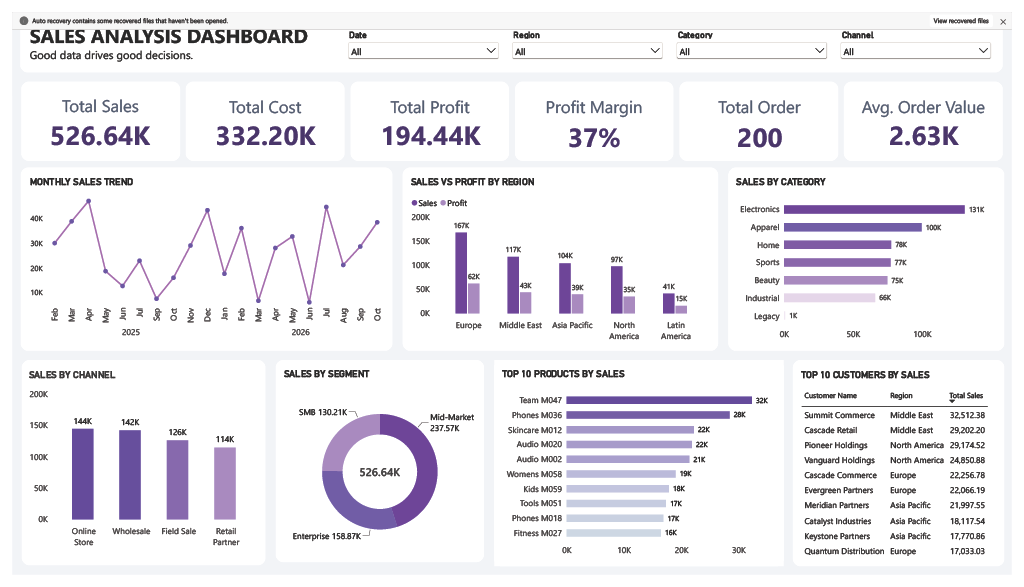

The page's visual inventory and layout, read from the dashboard file:
{"tool":"powerbi","page":{"name":"Sales Overview","canvas":[1920,1080],"ordinal":0},"visuals":[{"type":"shape","box":[1598,132.9,304.7,152],"z":0},{"type":"shape","box":[1281.9,132.9,304.7,152],"z":1000},{"type":"shape","box":[965.7,132.9,304.7,152],"z":2000},{"type":"shape","box":[649.6,132.9,304.7,152],"z":3000},{"type":"shape","box":[333.5,132.9,304.7,152],"z":4000},{"type":"shape","box":[17.3,132.9,304.7,152],"z":5000},{"type":"shape","box":[1376,298,530,352],"z":6000},{"type":"shape","box":[18,668,468,394],"z":7000},{"type":"shape","box":[506,668,400,388],"z":8000},{"type":"shape","box":[16,298,714,352],"z":9000},{"type":"shape","box":[926,668,556,396],"z":10000},{"type":"shape","box":[1500,668,406,396],"z":11000},{"type":"lineChart","title":"MONTHLY SALES TREND","fields":{"Category":["dim_date.year","dim_date.month_name"],"Y":["_measures.total_sales"]},"box":[18,298,712,352],"z":12000},{"type":"shape","box":[750,298,606,352],"z":13000},{"type":"barChart","title":"SALES BY CATEGORY","fields":{"Category":["dim_product.category"],"Y":["_measures.total_sales"]},"box":[1376,298,526,352],"z":14000},{"type":"clusteredBarChart","title":"TOP 10 PRODUCTS BY SALES","fields":{"Y":["_measures.total_sales"],"Category":["dim_product.product_name"]},"box":[926,668,556,396],"z":15000},{"type":"textbox","box":[15,156.2,307.5,63.8],"z":16000},{"type":"cardVisual","fields":{"Data":["_measures.total_sales"]},"box":[15,183.8,307.5,97.5],"z":17000},{"type":"tableEx","title":"TOP 10 CUSTOMERS BY SALES","fields":{"Values":["dim_customer.customer_name","dim_customer.region","_measures.total_sales"]},"box":[1500,670,406,396],"z":18000},{"type":"donutChart","title":"SALES BY SEGMENT","fields":{"Y":["_measures.total_sales"],"Category":["dim_customer.segment"]},"box":[506,668,400,394],"z":19000},{"type":"clusteredColumnChart","title":"SALES VS PROFIT BY REGION","fields":{"Category":["dim_customer.region"],"Y":["_measures.total_sales","_measures.total_profit"]},"box":[750,298,606,352],"z":20000},{"type":"textbox","box":[332.5,157.5,305,65],"z":21000},{"type":"cardVisual","fields":{"Data":["_measures.total_cost"]},"box":[332.5,185,307.5,97.5],"z":22000},{"type":"textbox","box":[650,157.5,305,65],"z":23000},{"type":"cardVisual","fields":{"Data":["_measures.total_profit"]},"box":[650,185,307.5,97.5],"z":24000},{"type":"cardVisual","fields":{"Data":["_measures.profit_margin %"]},"box":[965,187.5,307.5,97.5],"z":25000},{"type":"textbox","box":[965,157.5,305,65],"z":26000},{"type":"textbox","box":[1282.5,157.5,305,65],"z":27000},{"type":"cardVisual","fields":{"Data":["_measures.total_orders"]},"box":[1282.5,187.5,307.5,97.5],"z":28000},{"type":"textbox","box":[1597.5,157.5,305,65],"z":29000},{"type":"cardVisual","fields":{"Data":["_measures.avg_order_value"]},"box":[1597.5,185,307.5,97.5],"z":30000},{"type":"shape","box":[15,17.5,1887.5,97.5],"z":31000},{"type":"slicer","fields":{"Values":["dim_orders_flag.channel"]},"box":[1586.3,30.7,300,70],"z":32000},{"type":"columnChart","title":"SALES BY CHANNEL","fields":{"Y":["_measures.total_sales"],"Category":["dim_orders_flag.channel"]},"box":[16,670,470,376],"z":33000},{"type":"slicer","fields":{"Values":["dim_product.category"]},"box":[1270.8,30.7,300,70],"z":34000},{"type":"slicer","fields":{"Values":["dim_date.year","dim_date.month_name"]},"box":[640,30.7,300,70],"z":35000},{"type":"slicer","fields":{"Values":["dim_customer.region"]},"box":[955.4,30.7,300,70],"z":36000},{"type":"textbox","box":[32.5,17.5,547.5,97.5],"z":37000}]}

Visuals, with their boxes on the page's 1920x1080 design canvas (x1, y1, x2, y2). These are canvas units, not pixel positions in the 1024x587 screenshot, which may show the page scaled, cropped or inside an application window:
shape: 1598, 133, 1903, 285
shape: 1282, 133, 1587, 285
shape: 966, 133, 1270, 285
shape: 650, 133, 954, 285
shape: 334, 133, 638, 285
shape: 17, 133, 322, 285
shape: 1376, 298, 1906, 650
shape: 18, 668, 486, 1062
shape: 506, 668, 906, 1056
shape: 16, 298, 730, 650
shape: 926, 668, 1482, 1064
shape: 1500, 668, 1906, 1064
"MONTHLY SALES TREND" lineChart: 18, 298, 730, 650
shape: 750, 298, 1356, 650
"SALES BY CATEGORY" barChart: 1376, 298, 1902, 650
"TOP 10 PRODUCTS BY SALES" clusteredBarChart: 926, 668, 1482, 1064
textbox: 15, 156, 322, 220
cardVisual - _measures.total_sales: 15, 184, 322, 281
"TOP 10 CUSTOMERS BY SALES" tableEx: 1500, 670, 1906, 1066
"SALES BY SEGMENT" donutChart: 506, 668, 906, 1062
"SALES VS PROFIT BY REGION" clusteredColumnChart: 750, 298, 1356, 650
textbox: 332, 158, 638, 222
cardVisual - _measures.total_cost: 332, 185, 640, 282
textbox: 650, 158, 955, 222
cardVisual - _measures.total_profit: 650, 185, 958, 282
cardVisual - _measures.profit_margin %: 965, 188, 1272, 285
textbox: 965, 158, 1270, 222
textbox: 1282, 158, 1588, 222
cardVisual - _measures.total_orders: 1282, 188, 1590, 285
textbox: 1598, 158, 1902, 222
cardVisual - _measures.avg_order_value: 1598, 185, 1905, 282
shape: 15, 18, 1902, 115
slicer - dim_orders_flag.channel: 1586, 31, 1886, 101
"SALES BY CHANNEL" columnChart: 16, 670, 486, 1046
slicer - dim_product.category: 1271, 31, 1571, 101
slicer - dim_date.year x dim_date.month_name: 640, 31, 940, 101
slicer - dim_customer.region: 955, 31, 1255, 101
textbox: 32, 18, 580, 115
